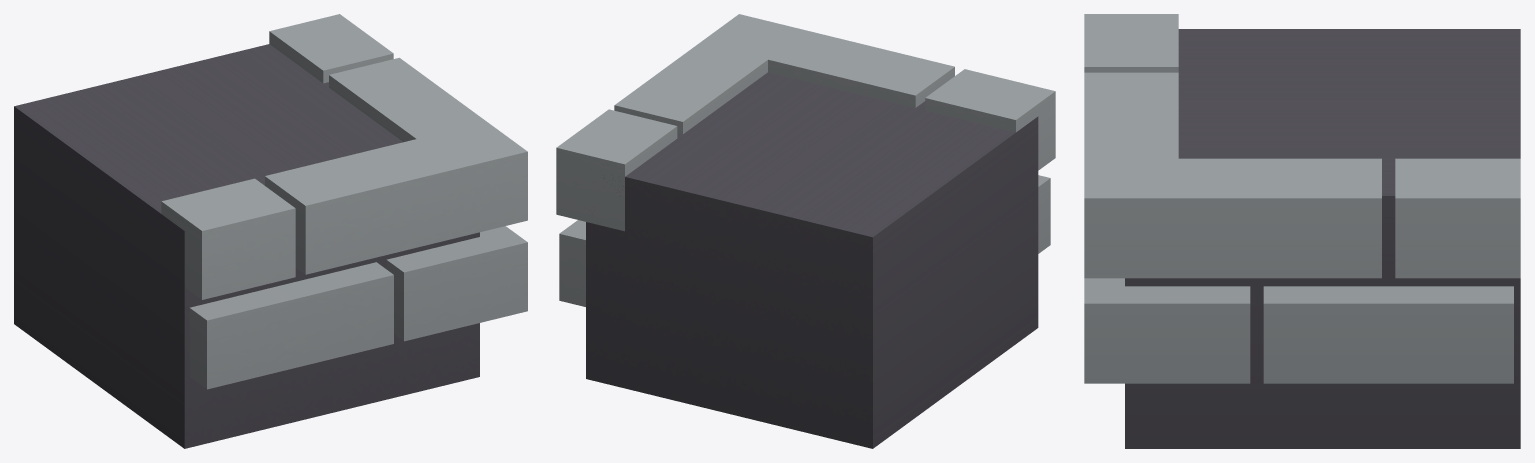
Rendered from SM_WallCorner_Brick.fbx.
3 views of the same model, side by side, from view 1: azimuth 30°, elevation 25°; view 2: azimuth 150°, elevation 25°; view 3: azimuth 270°, elevation 25° (orthographic). The views are drawn at different scales.
Parts seen in each view (by area): view 1: WallCorner_Brick; view 2: WallCorner_Brick; view 3: WallCorner_Brick.
Part boxes in pixels (x1,y1,x2,y2): WallCorner_Brick: (14, 14, 527, 448); WallCorner_Brick: (556, 14, 1055, 448); WallCorner_Brick: (1084, 14, 1520, 448).
Bounding box in the file's own units: 165 × 112 × 165.
